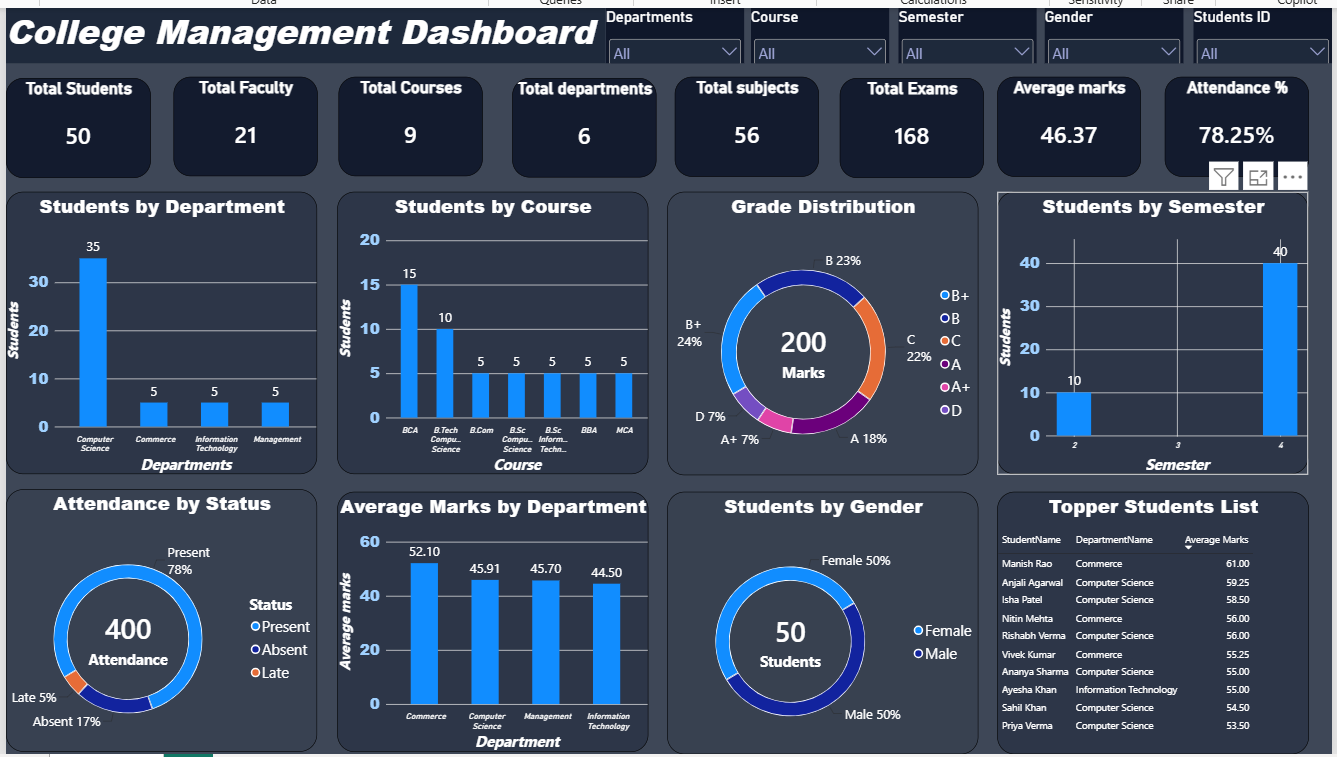

This screenshot's page, from the dashboard's own definition file:
{"tool":"powerbi","page":{"name":"Page 1","canvas":[1920,1080],"ordinal":0},"visuals":[{"type":"cardVisual","title":"Total subjects","fields":{"Data":["Attendence.Total Subjects"]},"box":[968.2,99.5,209,144.8],"z":0},{"type":"cardVisual","title":"Total Exams","fields":{"Data":["Attendence.Total Exams"]},"box":[1207,101.3,209,144.8],"z":1000},{"type":"cardVisual","title":"Average marks","fields":{"Data":["Attendence.Average Marks"]},"box":[1435.1,99.5,208.1,144.8],"z":2000},{"type":"cardVisual","title":"Attendance %","fields":{"Data":["Attendence.Attendence %"]},"box":[1677.6,99.5,209,144.8],"z":3000},{"type":"cardVisual","title":"Total departments","fields":{"Data":["Attendence.Total departments"]},"box":[732.9,101.3,209,144],"z":4000},{"type":"clusteredColumnChart","title":"Students by Department","fields":{"Category":["departments.DepartmentName"],"Y":["CountNonNull(students.StudentID)"]},"box":[0,266,450.6,409],"z":5000},{"type":"clusteredColumnChart","fields":{"Category":["courses.CourseName"],"Y":["CountNonNull(students.StudentID)"]},"box":[479.6,266,450.6,409],"z":6000},{"type":"donutChart","fields":{"Category":["students.Gender"],"Y":["CountNonNull(students.StudentID)"]},"box":[957.3,700.3,450.6,380],"z":7000},{"type":"clusteredColumnChart","fields":{"Category":["students.Semester"],"Y":["CountNonNull(students.StudentID)"]},"box":[1435.1,266,450.6,409],"z":8000},{"type":"donutChart","fields":{"Category":["Attendence.Status"],"Y":["CountNonNull(Attendence.AttendanceID)"]},"box":[0,696.7,450.6,380],"z":9000},{"type":"clusteredColumnChart","title":"Average Marks by Department","fields":{"Category":["departments.DepartmentName"],"Y":["Avg(marks.MarksObtained)"]},"box":[479.6,700.3,450.6,376.4],"z":10000},{"type":"donutChart","title":"Grade Distribution","fields":{"Category":["marks.Grade"],"Y":["CountNonNull(marks.MarkID)"]},"box":[957.3,266,450.6,410.8],"z":11000},{"type":"slicer","title":"Departments","fields":{"Values":["departments.DepartmentName"]},"box":[868.6,0,200,80],"z":12000},{"type":"slicer","title":"Course","fields":{"Values":["courses.CourseName"]},"box":[1078.6,0,200,80],"z":13000},{"type":"slicer","title":"Semester","fields":{"Values":["students.Semester"]},"box":[1292.1,0,200,80],"z":14000},{"type":"slicer","title":"Gender","fields":{"Values":["students.Gender"]},"box":[1503.8,0,200.9,80],"z":15000},{"type":"slicer","title":"Students ID","fields":{"Values":["students.StudentID"]},"box":[1719.2,0,200.9,80],"z":16000},{"type":"tableEx","title":"Topper Students List","fields":{"Values":["students.StudentName","departments.DepartmentName","Attendence.Average Marks"]},"box":[1435,700,451,380],"z":17000},{"type":"cardVisual","title":"Total Courses","fields":{"Data":["CountNonNull(courses.CourseID)"]},"box":[481.4,99.5,209,144],"z":18000},{"type":"cardVisual","title":"Total Faculty","fields":{"Data":["CountNonNull(faculty.FacultyID)"]},"box":[242.5,99.5,209,144],"z":19000},{"type":"cardVisual","title":"Total Students","fields":{"Data":["CountNonNull(students.StudentID)"]},"box":[0,101.3,209.9,144.8],"z":20000},{"type":"textbox","box":[0,0,868,80],"z":21000}]}

Visuals, with their boxes on the page's 1920x1080 design canvas (x1, y1, x2, y2). These are canvas units, not pixel positions in the 1337x757 screenshot, which may show the page scaled, cropped or inside an application window:
"Total subjects" cardVisual: (968,100,1177,244)
"Total Exams" cardVisual: (1207,101,1416,246)
"Average marks" cardVisual: (1435,100,1643,244)
"Attendance %" cardVisual: (1678,100,1887,244)
"Total departments" cardVisual: (733,101,942,245)
"Students by Department" clusteredColumnChart: (0,266,451,675)
clusteredColumnChart - courses.CourseName x CountNonNull(students.StudentID): (480,266,930,675)
donutChart - students.Gender x CountNonNull(students.StudentID): (957,700,1408,1080)
clusteredColumnChart - students.Semester x CountNonNull(students.StudentID): (1435,266,1886,675)
donutChart - Attendence.Status x CountNonNull(Attendence.AttendanceID): (0,697,451,1077)
"Average Marks by Department" clusteredColumnChart: (480,700,930,1077)
"Grade Distribution" donutChart: (957,266,1408,677)
"Departments" slicer: (869,0,1069,80)
"Course" slicer: (1079,0,1279,80)
"Semester" slicer: (1292,0,1492,80)
"Gender" slicer: (1504,0,1705,80)
"Students ID" slicer: (1719,0,1920,80)
"Topper Students List" tableEx: (1435,700,1886,1080)
"Total Courses" cardVisual: (481,100,690,244)
"Total Faculty" cardVisual: (242,100,452,244)
"Total Students" cardVisual: (0,101,210,246)
textbox: (0,0,868,80)
